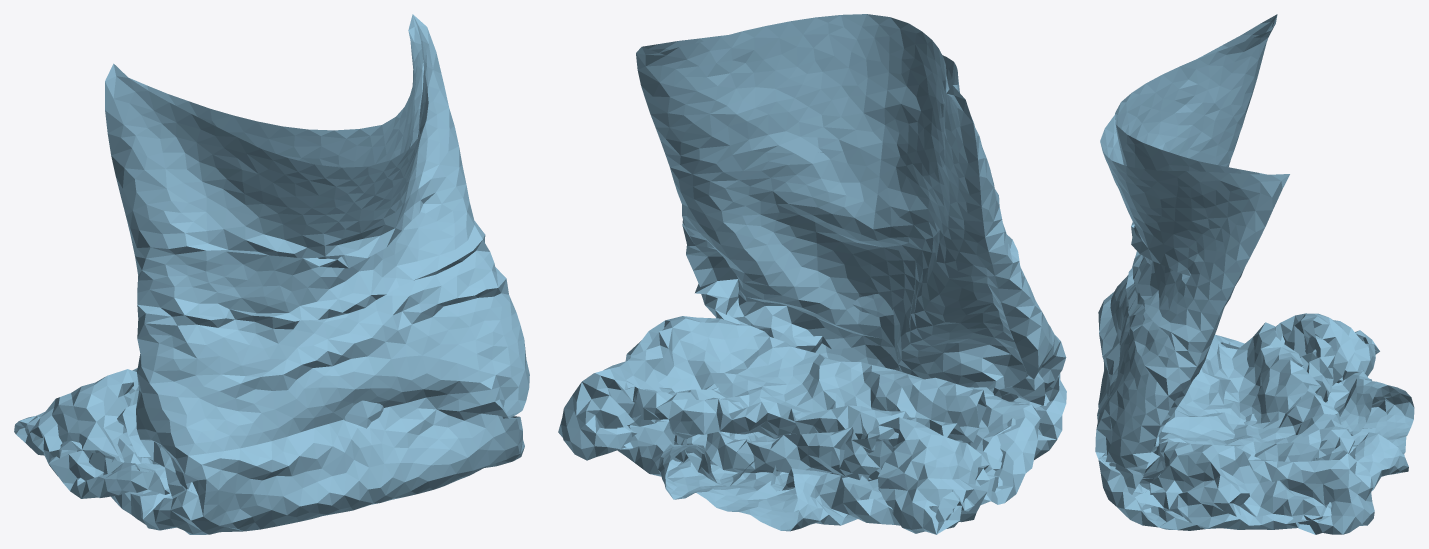
The model's file is frame_15.glb.
3 views of the same model, side by side, from view 1: azimuth 30°, elevation 25°; view 2: azimuth 150°, elevation 25°; view 3: azimuth 270°, elevation 25° (orthographic). The views are drawn at different scales.
Parts seen in each view (by area): view 1: frame_15.obj; view 2: frame_15.obj; view 3: frame_15.obj.
Part boxes in pixels (x1,y1,x2,y2): frame_15.obj: (14,14,529,534); frame_15.obj: (558,14,1066,534); frame_15.obj: (1095,14,1414,534).
Bounding box in the file's own units: 0.95 × 0.9336 × 0.7171.
